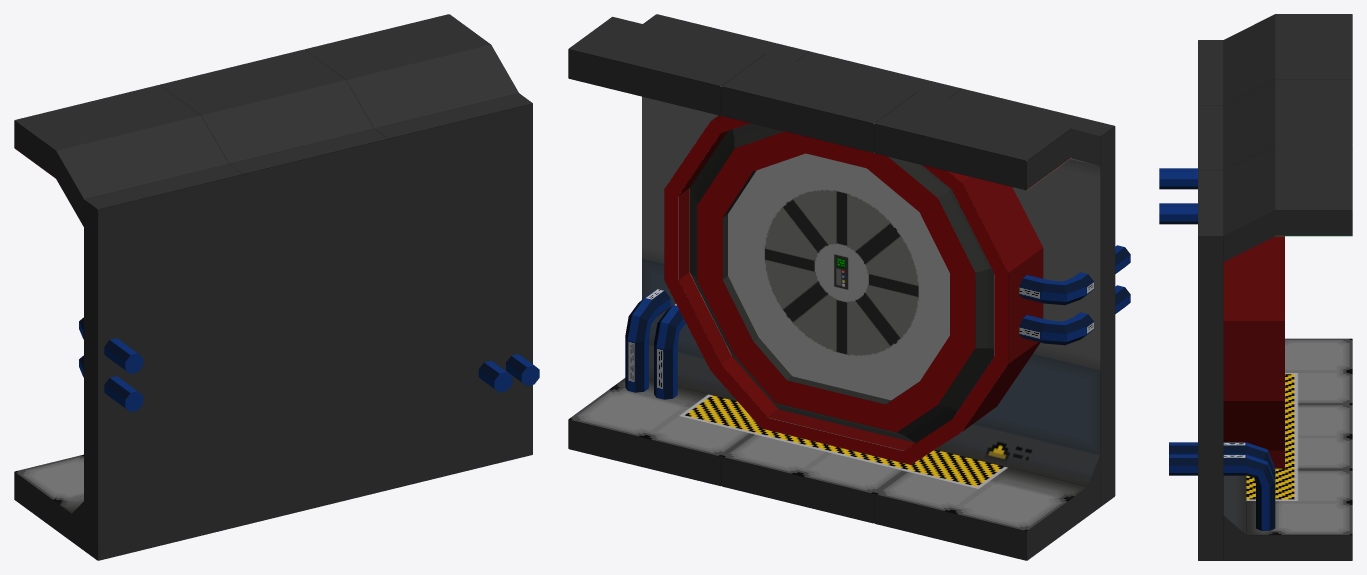
The model's file is ShipWallAirlock.obj.
3 views of the same model, side by side, from view 1: azimuth 30°, elevation 25°; view 2: azimuth 150°, elevation 25°; view 3: azimuth 270°, elevation 25° (orthographic). The views are drawn at different scales.
Visible parts, largest first — view 1: ShipWall, Pipe; view 2: ShipWall, Airlock, Pipe; view 3: ShipWall, Airlock, Pipe.
Part boxes in pixels (x1=…): ShipWall: x1=14, y1=14, x2=532, y2=560; Pipe: x1=79, y1=317, x2=539, y2=411; ShipWall: x1=568, y1=14, x2=1115, y2=560; Airlock: x1=664, y1=115, x2=1043, y2=464; Pipe: x1=625, y1=245, x2=1130, y2=399; ShipWall: x1=1198, y1=14, x2=1352, y2=560; Airlock: x1=1223, y1=170, x2=1284, y2=468; Pipe: x1=1159, y1=168, x2=1275, y2=530.
Size of the model in its own units: 3 by 2.5 by 1.25.
3 materials, 3 textured.
